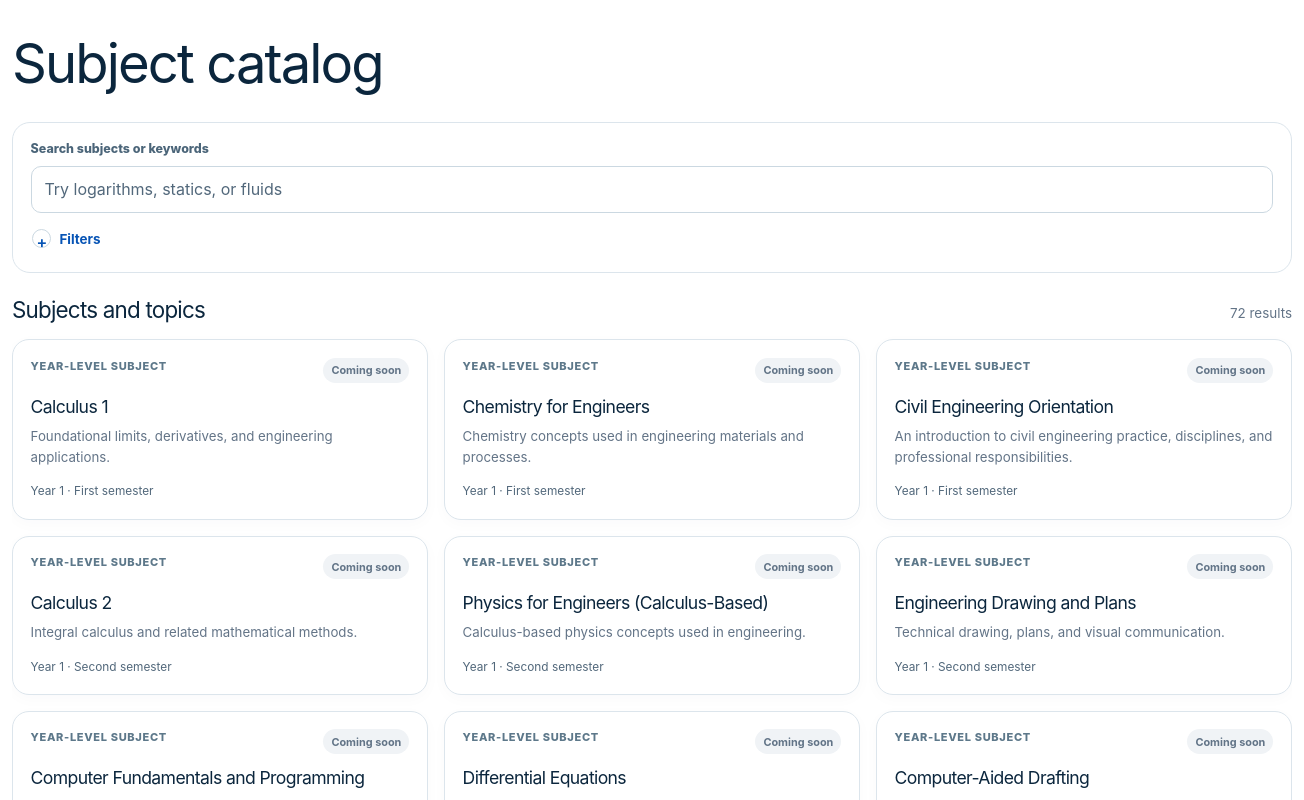
Scenario: catalog pages › shows curriculum transparency and searches titles and aliases
Type "statics" into the search field labelled "Search subjects or keywords" at (652,189), box [31,166,1273,213]
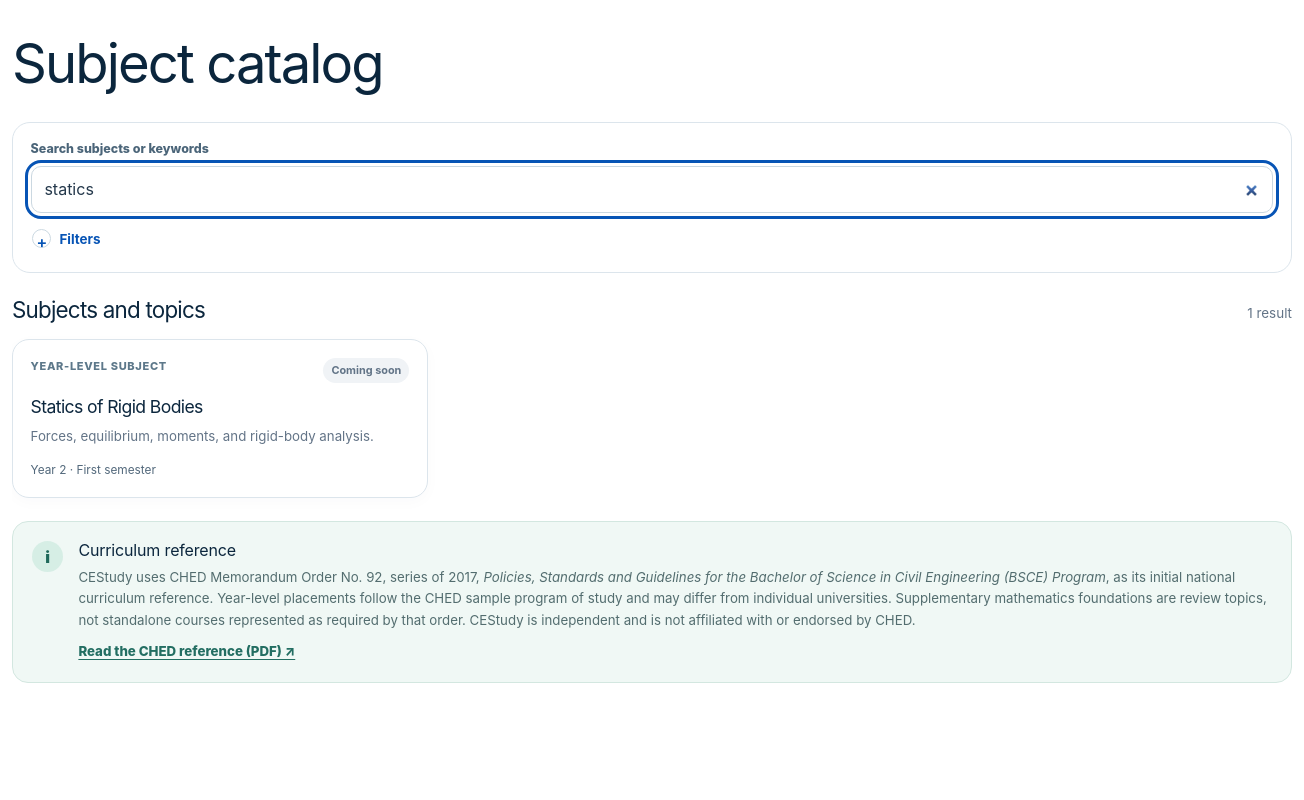
Expected: the link "Statics of Rigid Bodies" is shown, [12,339,428,498]
Result: the link "Calculus 1" is gone
Clear the search field labelled "Search subjects or keywords" at (652,189), box [31,166,1273,213]
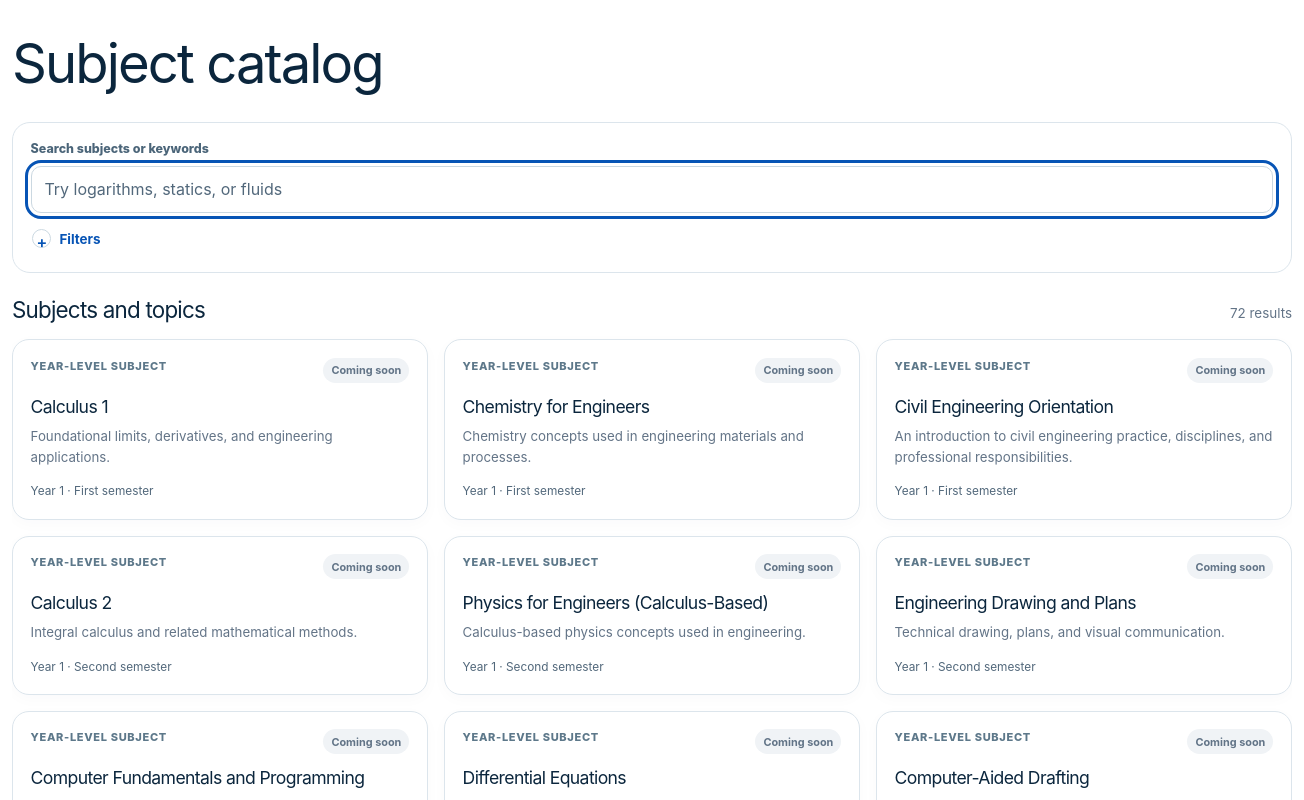
Result: the link "Calculus 1" is shown at [12,339,428,520]
